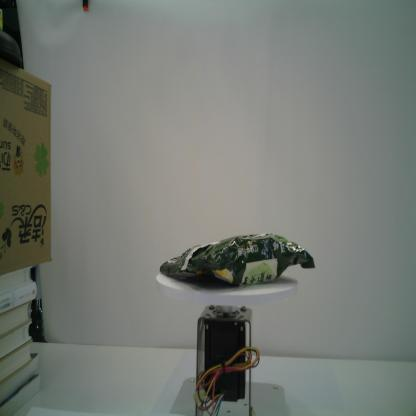Instant Noodles: (158, 230, 316, 290)
